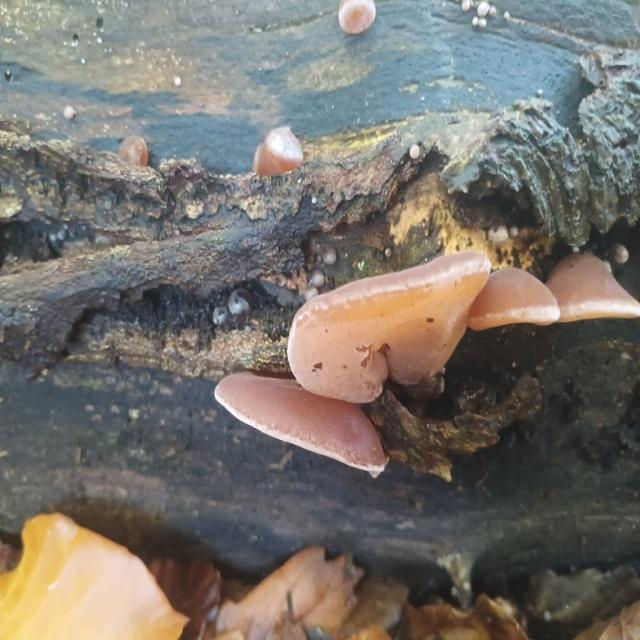Fase Muda: (282, 244, 494, 397), (211, 360, 396, 488), (547, 242, 640, 333), (467, 262, 561, 336), (252, 124, 303, 177), (116, 132, 152, 170)
primordia: (338, 0, 377, 35)
